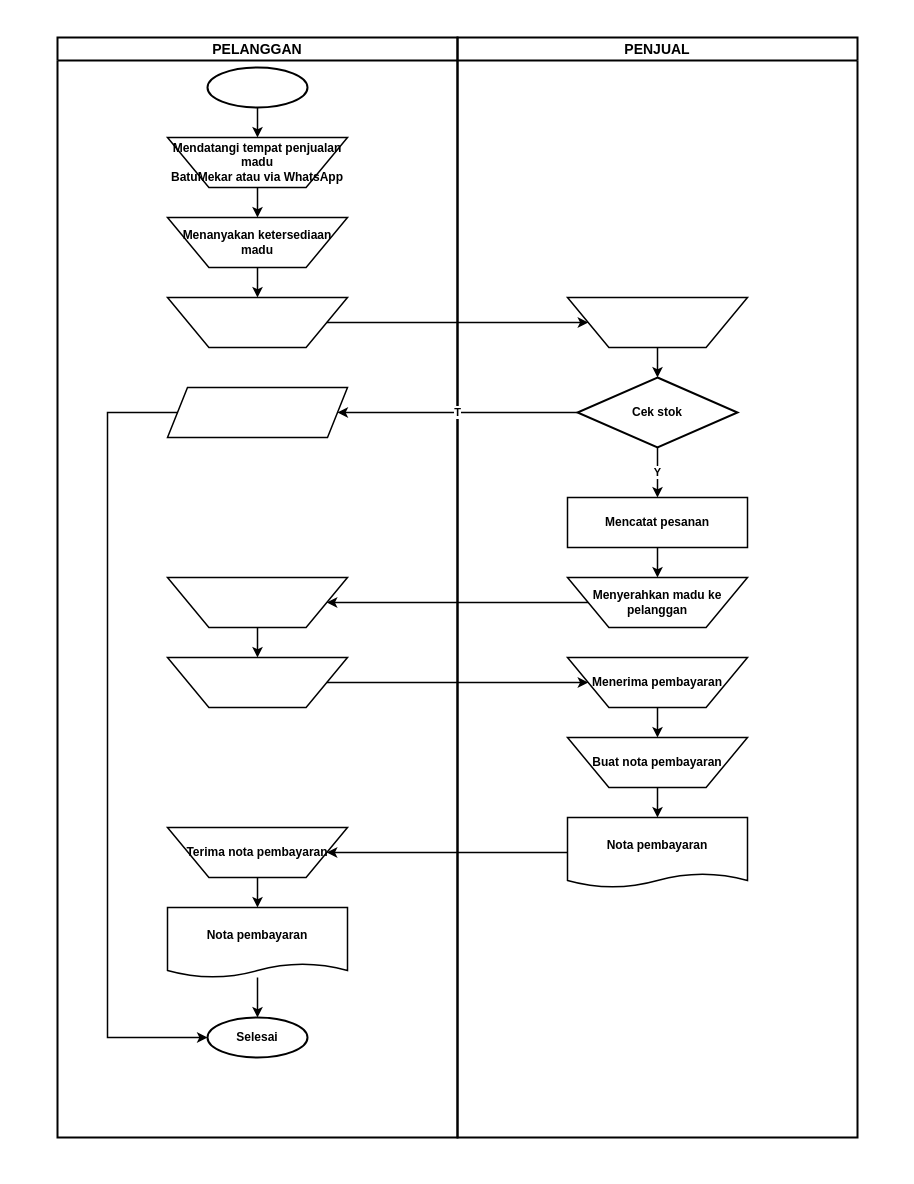
Some shapes in this 914 by 1184 pixel diagram are drawn without their labels. The box of each missing label's shape, as (x1, y1, x2, y2) in pixels:
Melakukan pembayaran: (166, 656, 348, 708)
Memesan madu: (166, 296, 348, 348)
Mendapatkan info stok kosong: (166, 386, 348, 438)
Menerima madu: (166, 576, 348, 628)
Menerima pesanan: (566, 296, 748, 348)
Mulai: (206, 66, 308, 108)
